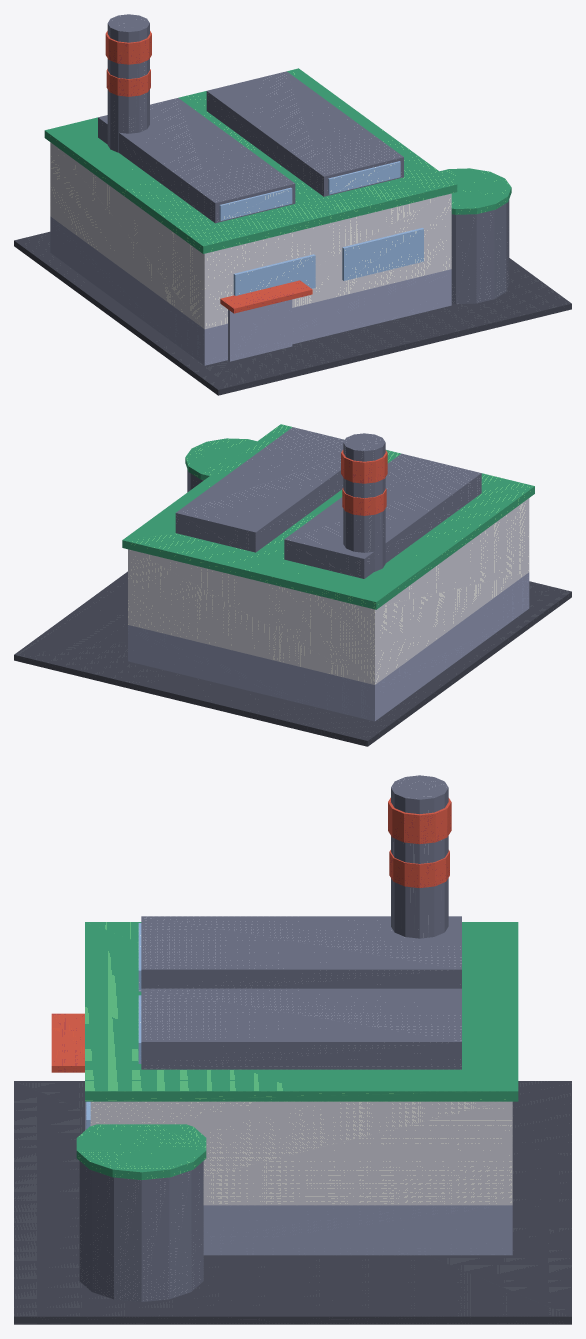
File: ind-2x2-l1.glb
The picture shows the model from 3 angles, top to bottom: view 1: azimuth 30°, elevation 25°; view 2: azimuth 150°, elevation 25°; view 3: azimuth 270°, elevation 25°; orthographic projection. The views are drawn at different scales.
Parts seen in each view (by area): view 1: ind-2x2-l1; view 2: ind-2x2-l1; view 3: ind-2x2-l1.
Part boxes in pixels (bbox=[...]): ind-2x2-l1: bbox=[14, 14, 571, 395]; ind-2x2-l1: bbox=[14, 424, 571, 746]; ind-2x2-l1: bbox=[14, 775, 571, 1324].
Bounding box in the file's own units: 3.86 × 2.6 × 3.86.
1 material, 1 textured.
